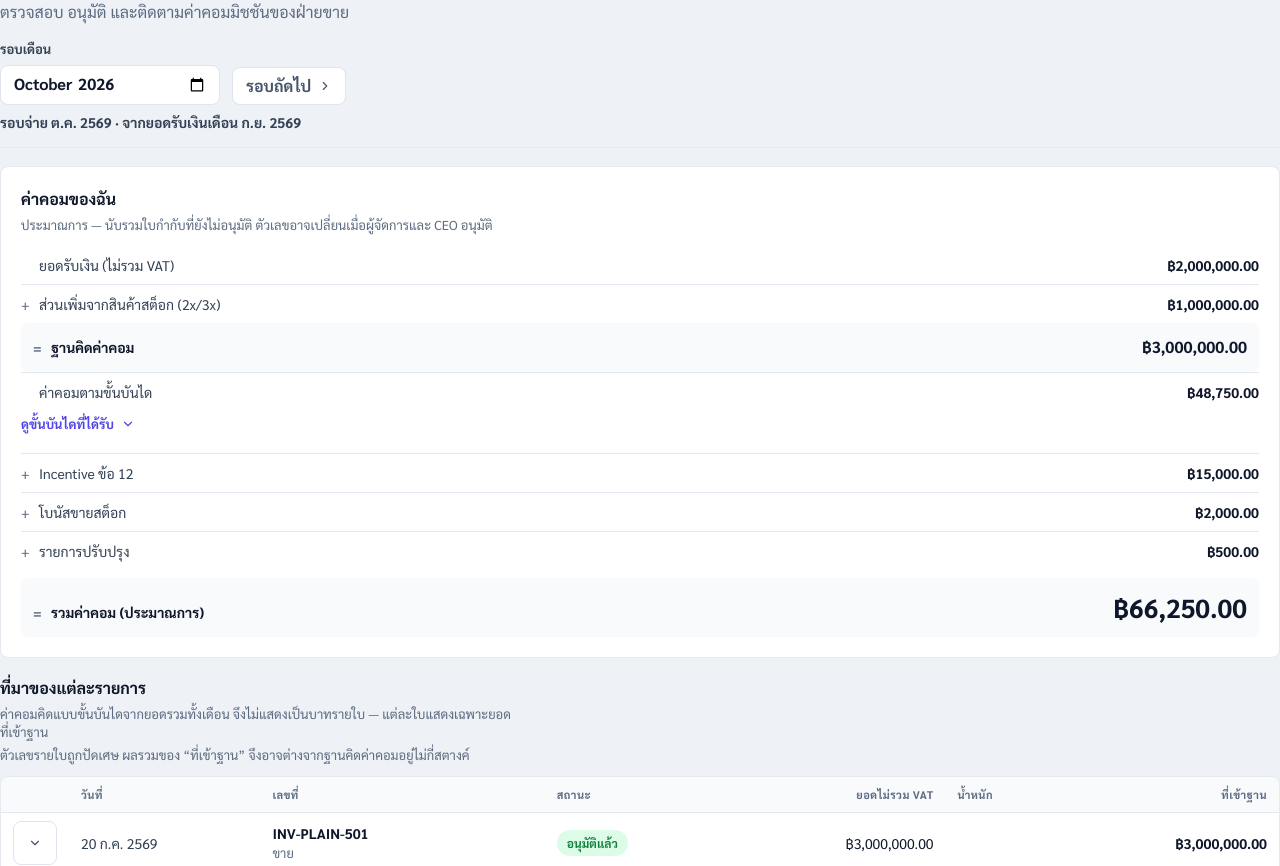
Scenario: rep receipt ledger — where each figure comes from › expanding a receipt shows the whole chain: gross - each deduction + overpayment = actual ÷ VAT = ex-VAT × weight = into the base
Replace the text in the field labelled "รอบเดือน" with "2026-08": coordinates (110, 85) [0,65,220,105]
(page scrolled)
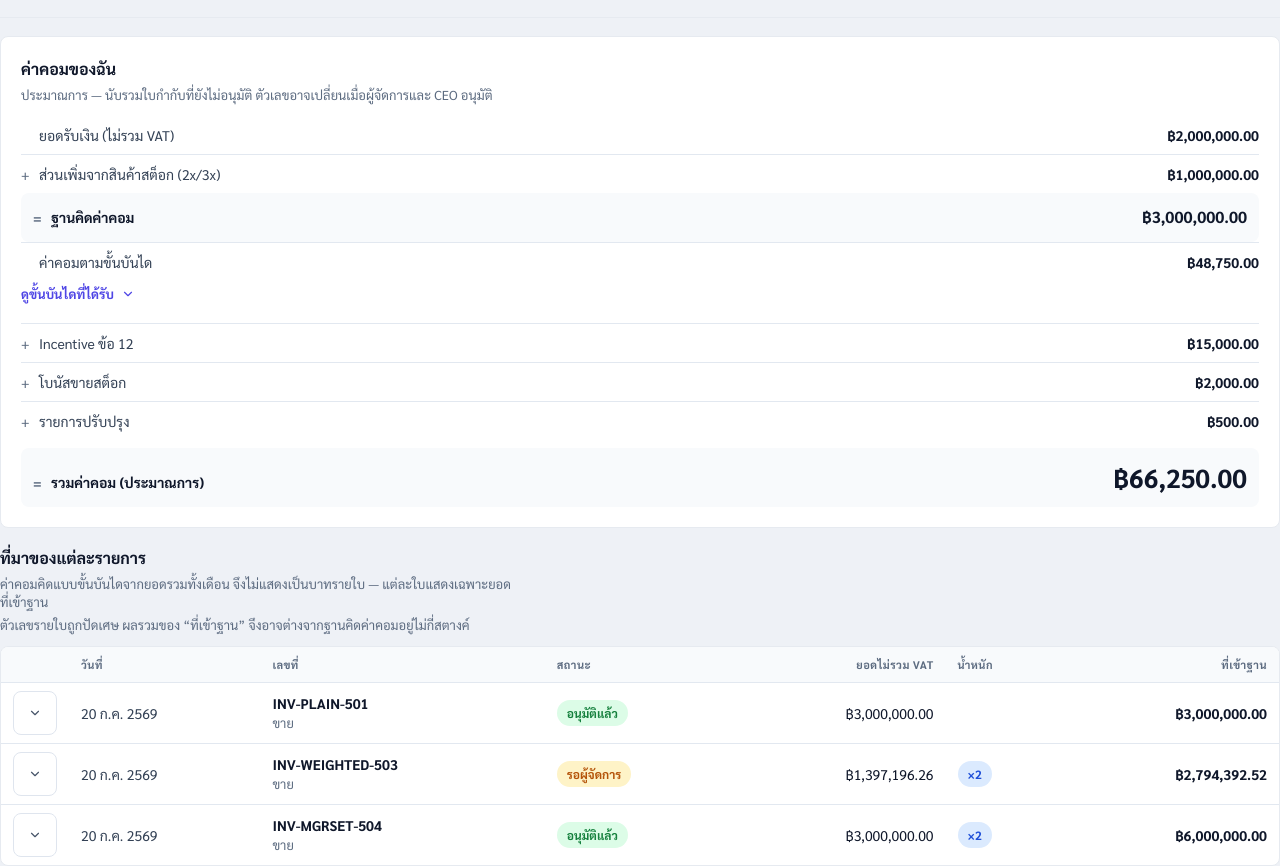
Click the button named "ดูรายละเอียดการคำนวณ" in the row of "INV-WEIGHTED-503": coordinates (35, 774) [13,752,57,796]
(page scrolled)
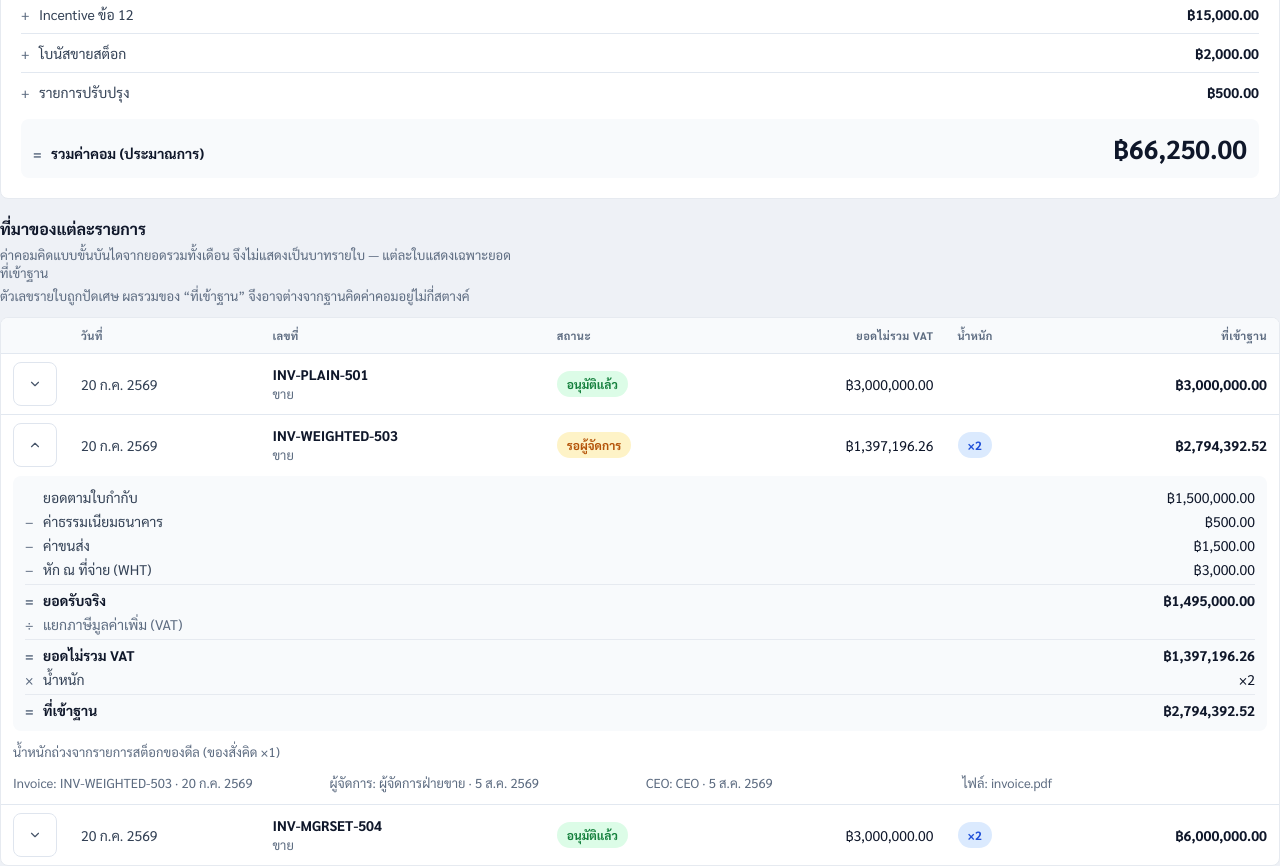
Expected: the element with test id "receipt-chain-503" shows "ยอดตามใบกำกับ", [43,488,138,506]
Expected: the element with test id "receipt-chain-503" shows "฿1,500,000.00", [1167,488,1255,506]
Expected: the element with test id "receipt-chain-503" shows "ค่าธรรมเนียม", [43,512,163,530]
